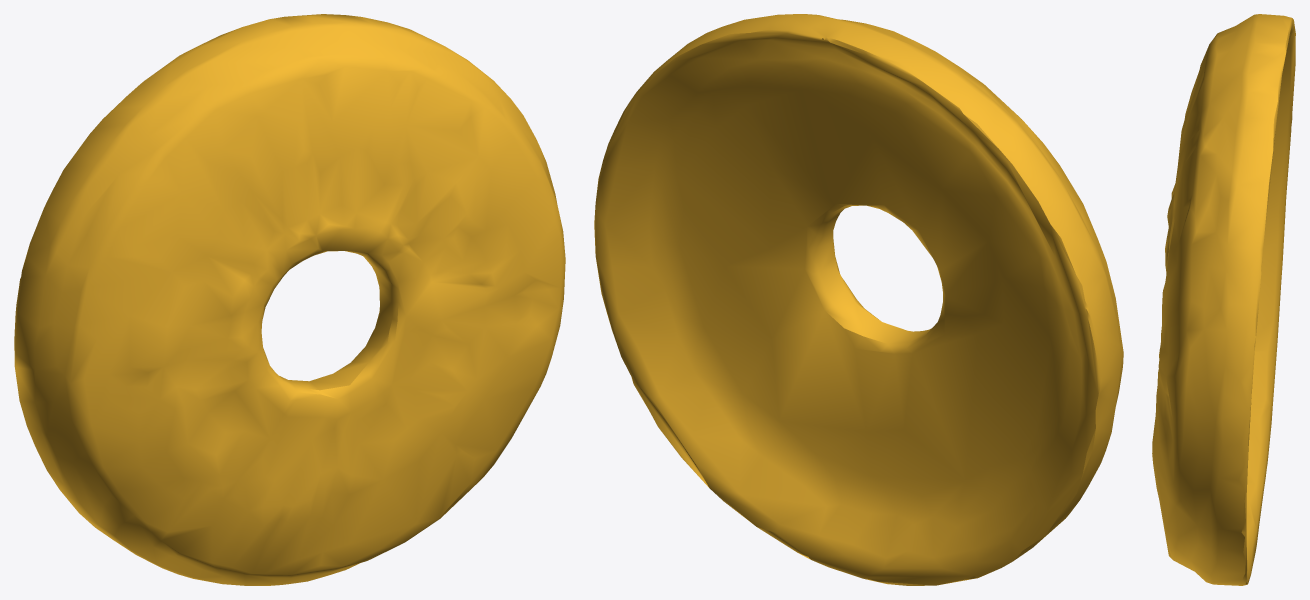
File: nervoso-iris-r.glb
3 renders of one model, left to right at view 1: azimuth 30°, elevation 25°; view 2: azimuth 150°, elevation 25°; view 3: azimuth 270°, elevation 25°, orthographic. The views are drawn at different scales.
Parts seen in each view (by area): view 1: Iris.r; view 2: Iris.r; view 3: Iris.r.
Part boxes in pixels (x1=…): Iris.r: x1=14, y1=14, x2=565, y2=585; Iris.r: x1=594, y1=14, x2=1123, y2=585; Iris.r: x1=1152, y1=14, x2=1295, y2=585.
Bounding box in the file's own units: 0.0128 × 0.0129 × 0.00322.
